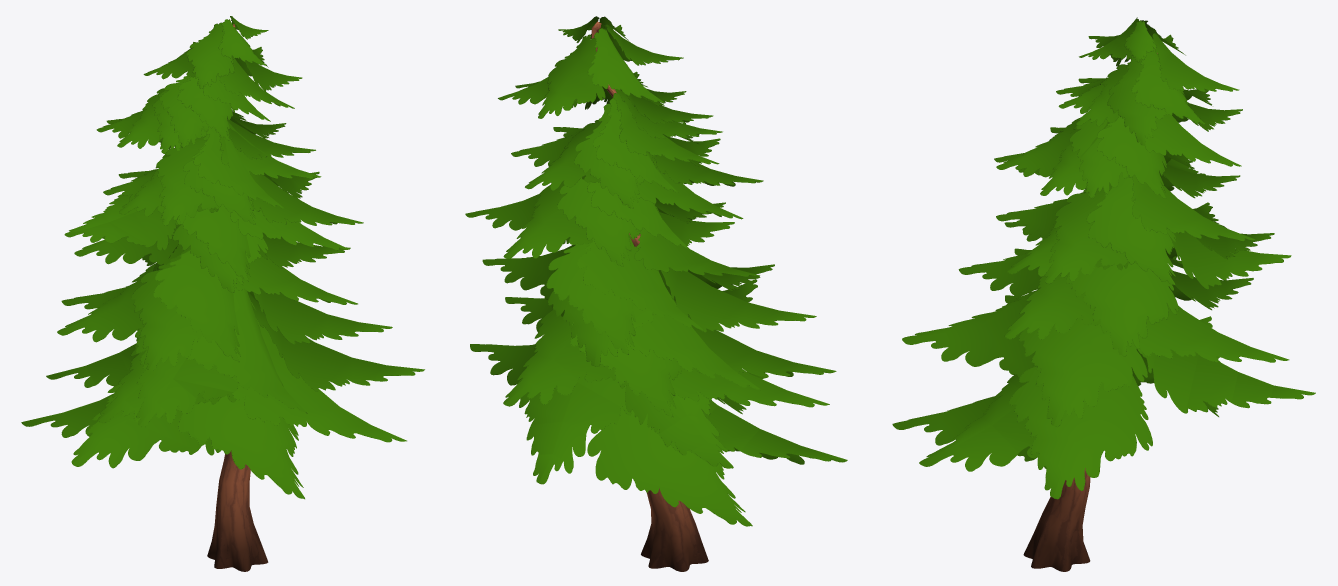
File: Pine_5.gltf
The picture shows the model from 3 angles, left to right: view 1: azimuth 30°, elevation 25°; view 2: azimuth 150°, elevation 25°; view 3: azimuth 270°, elevation 25°; orthographic projection. The views are drawn at different scales.
Visible parts, largest first — view 1: Pine_5; view 2: Pine_5; view 3: Pine_5.
Part boxes in pixels (<box>): Pine_5: <box>21,16,424,571</box>; Pine_5: <box>465,16,847,571</box>; Pine_5: <box>892,17,1315,571</box>.
Size of the model in its own units: 6.42 by 8.72 by 6.22.
Materials: 2 (2 with a texture image).
